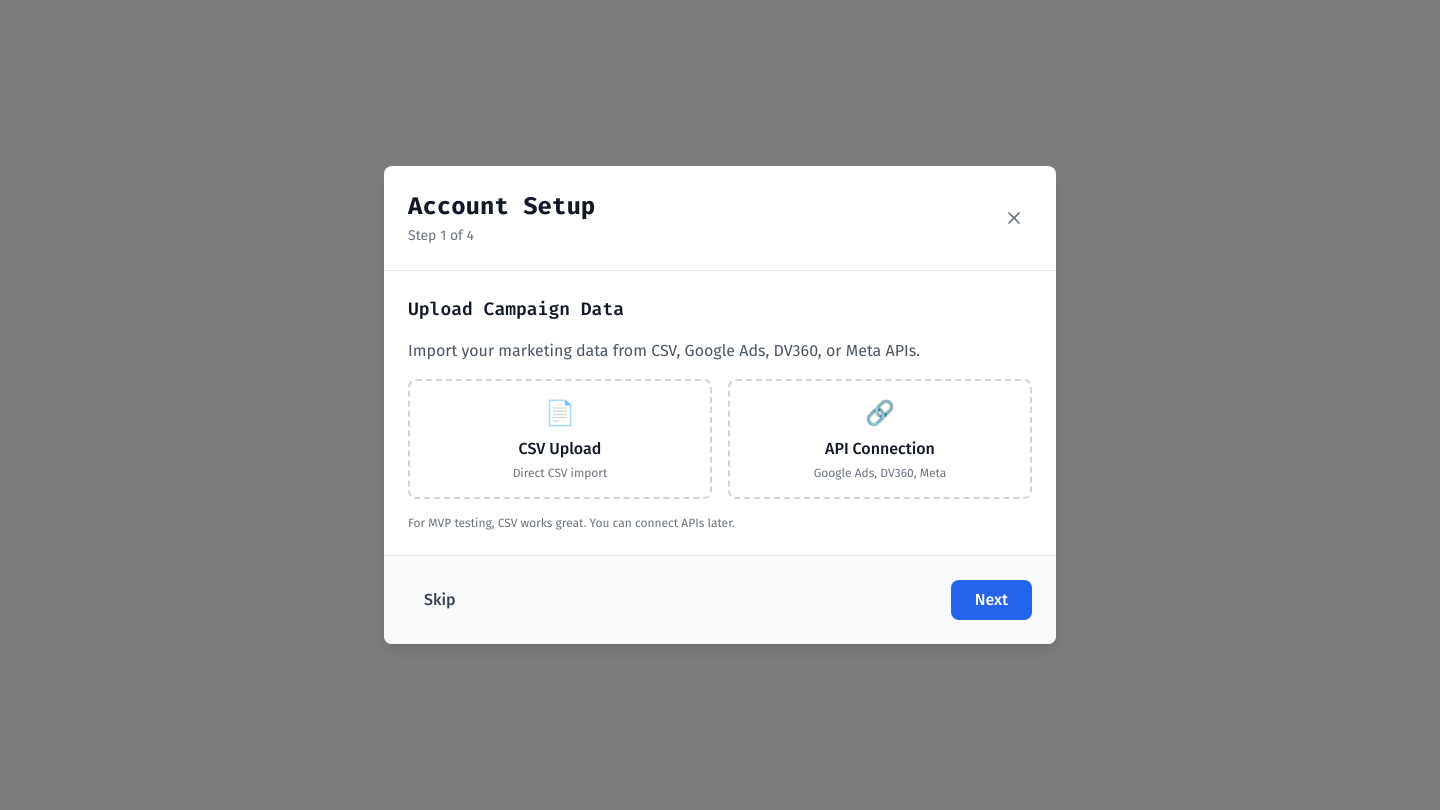
Test: ConfigSetupModal Component › should advance to step 2 on next button click
The width and height of the screenshot is (1440, 810).
Step 1. Click the button "Next" → x=991, y=600, box [951,580,1032,620]
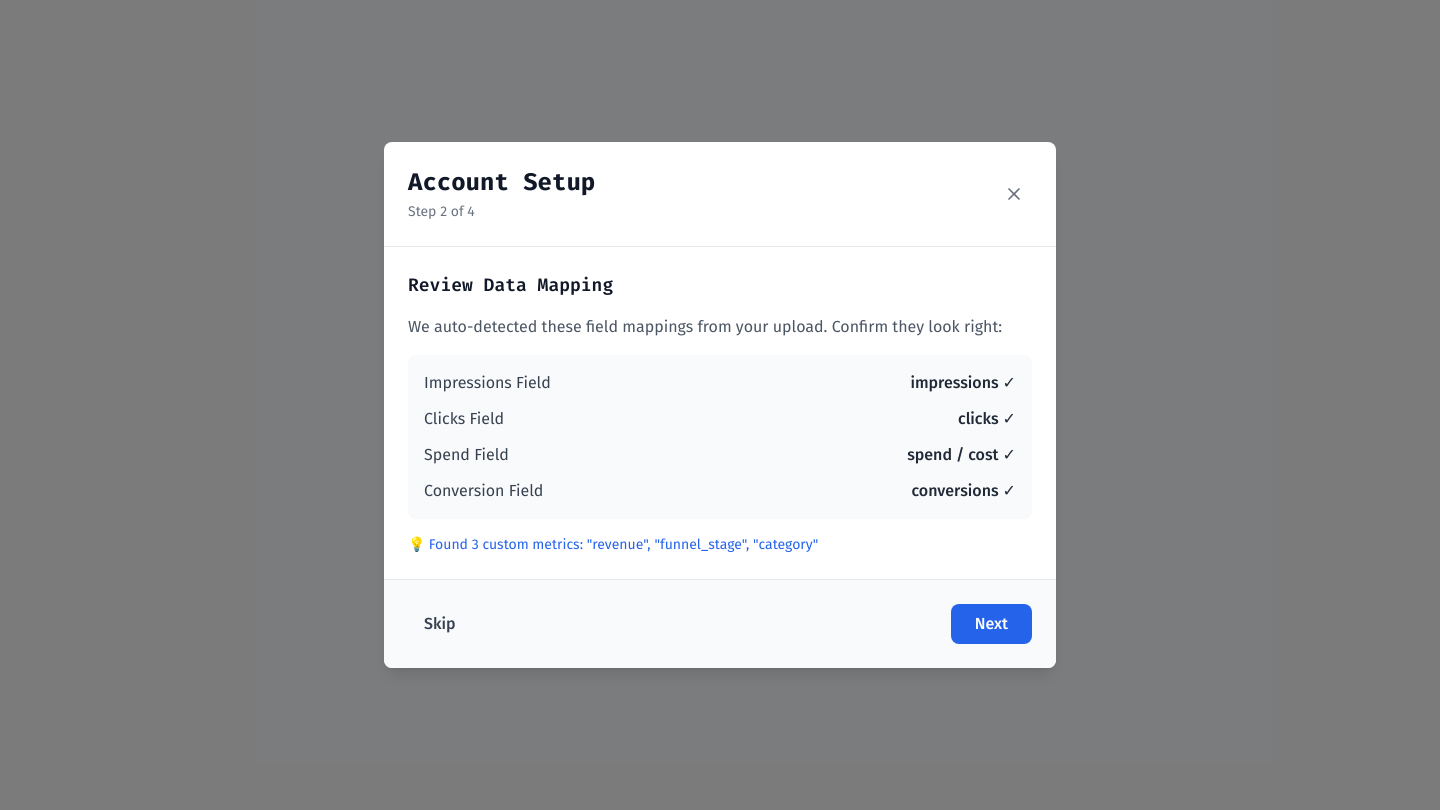
Expected: the text "Step 2 of 4" is shown, [408,203,475,220]
